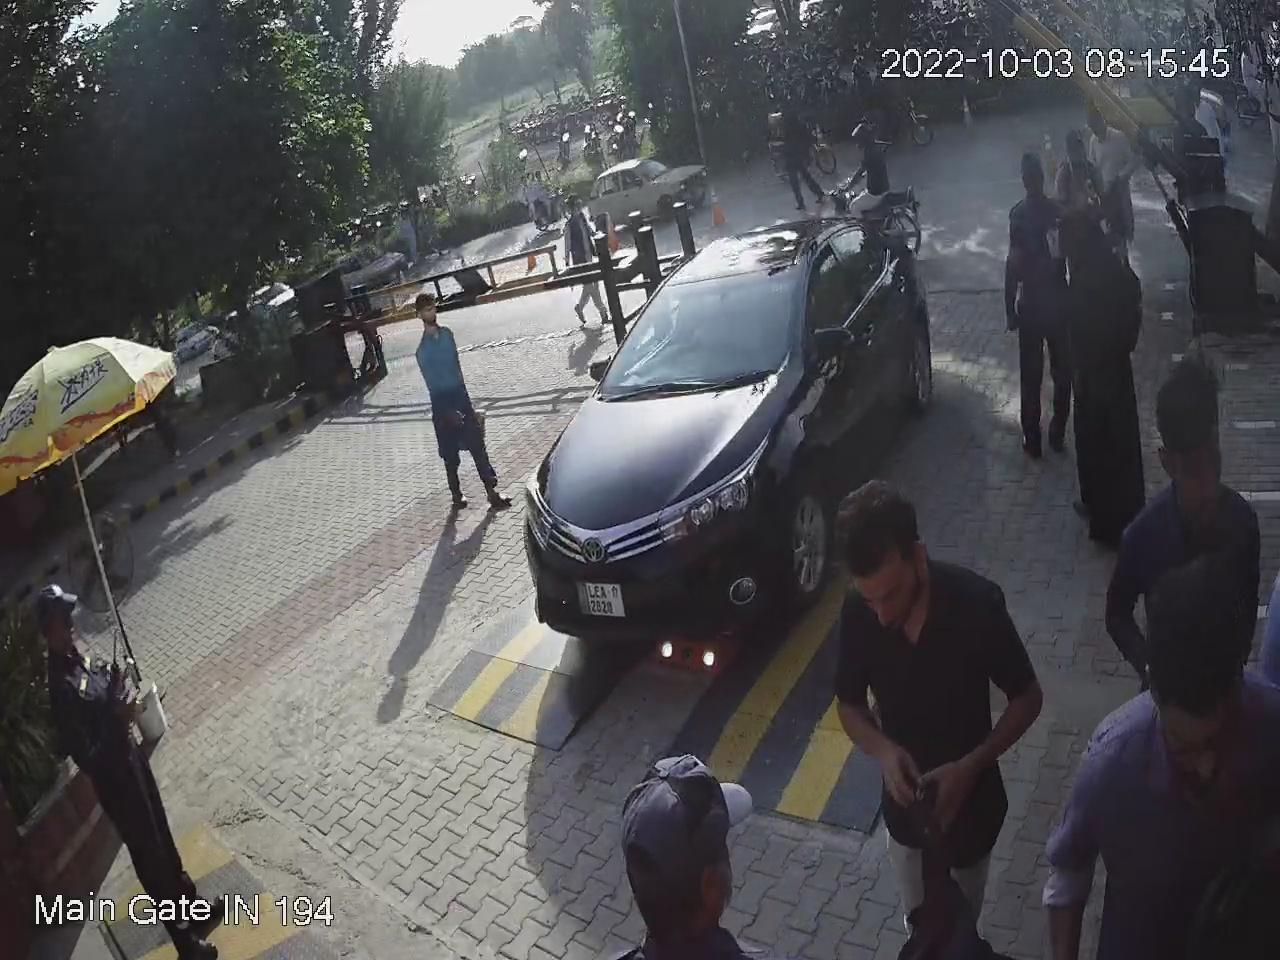windshield: (596, 245, 800, 385)
